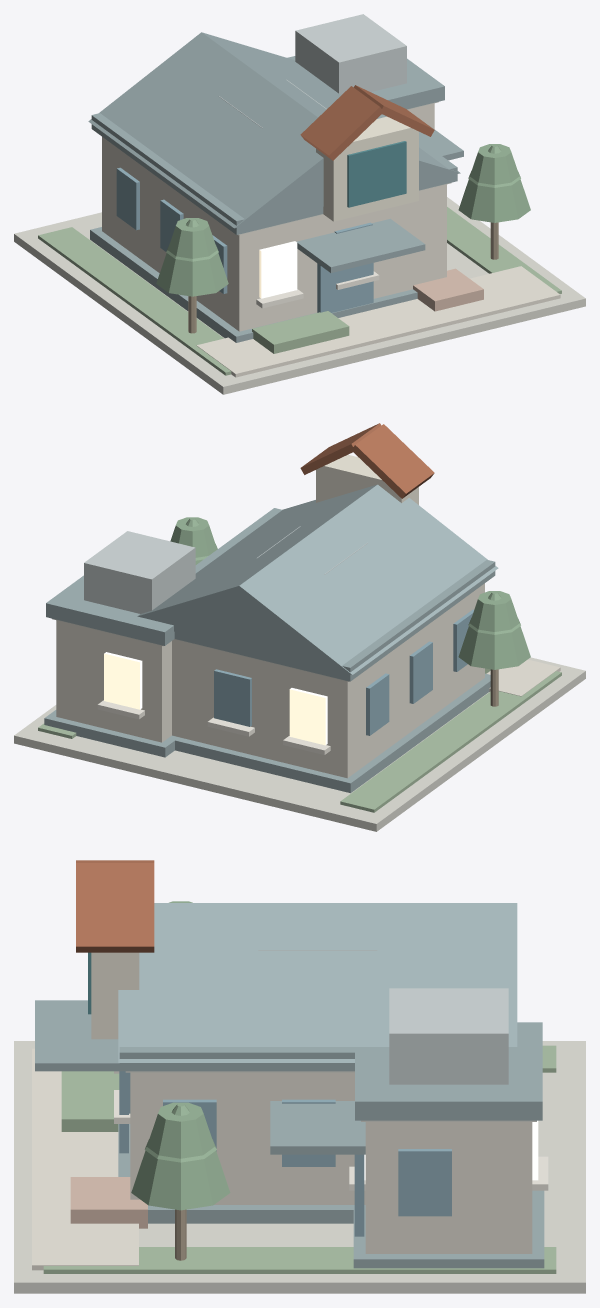
File: remaster_house_18.glb
The picture shows the model from 3 angles, top to bottom: view 1: azimuth 30°, elevation 25°; view 2: azimuth 150°, elevation 25°; view 3: azimuth 270°, elevation 25°; orthographic projection. The views are drawn at different scales.
Parts seen in each view (by area): view 1: remaster_house_18 roof, remaster_house_18 cream, remaster_house_18 stone, remaster_house_18 green, remaster_house_18 leaf, remaster_house_18 metal, remaster_house_18 glass, Dormer face.003, Dormer glazing.003, Dormer roof.006, remaster_house_18 warm, remaster_house_18 brick (+3 smaller); view 2: remaster_house_18 roof, remaster_house_18 cream, remaster_house_18 stone, remaster_house_18 metal, remaster_house_18 green, remaster_house_18 leaf, remaster_house_18 glass, remaster_house_18 warm, Dormer roof.006, Dormer face.003, remaster_house_18 white, Dormer roof.007; view 3: remaster_house_18 roof, remaster_house_18 cream, remaster_house_18 stone, remaster_house_18 metal, remaster_house_18 green, remaster_house_18 leaf, Dormer roof.007, remaster_house_18 glass, remaster_house_18 brick, Dormer face.003, remaster_house_18 white, remaster_house_18 bark.
Part boxes in pixels (x1,y1,x2,y2): remaster_house_18 roof: [88, 32, 463, 342]; remaster_house_18 cream: [102, 103, 560, 377]; remaster_house_18 stone: [14, 101, 585, 394]; remaster_house_18 green: [38, 207, 561, 375]; remaster_house_18 leaf: [156, 144, 530, 296]; remaster_house_18 metal: [219, 14, 406, 128]; remaster_house_18 glass: [116, 167, 373, 312]; Dormer face.003: [316, 116, 418, 221]; Dormer glazing.003: [347, 141, 406, 207]; Dormer roof.006: [300, 86, 383, 160]; remaster_house_18 warm: [259, 241, 297, 298]; remaster_house_18 brick: [413, 268, 483, 311]; remaster_house_18 roof: [44, 484, 498, 793]; remaster_house_18 cream: [56, 583, 560, 778]; remaster_house_18 stone: [14, 618, 585, 831]; remaster_house_18 metal: [84, 526, 367, 613]; remaster_house_18 green: [38, 668, 561, 812]; remaster_house_18 leaf: [170, 517, 530, 669]; remaster_house_18 glass: [214, 609, 473, 735]; remaster_house_18 warm: [104, 652, 327, 745]; Dormer roof.006: [351, 424, 434, 498]; Dormer face.003: [316, 454, 418, 504]; remaster_house_18 white: [97, 700, 330, 754]; Dormer roof.007: [300, 423, 381, 474]; remaster_house_18 roof: [35, 903, 544, 1268]; remaster_house_18 cream: [32, 1048, 532, 1270]; remaster_house_18 stone: [14, 1041, 585, 1293]; remaster_house_18 metal: [258, 950, 508, 1084]; remaster_house_18 green: [43, 1045, 556, 1273]; remaster_house_18 leaf: [131, 901, 230, 1210]; Dormer roof.007: [76, 863, 154, 952]; remaster_house_18 glass: [119, 1071, 451, 1236]; remaster_house_18 brick: [70, 1177, 147, 1228]; Dormer face.003: [91, 952, 139, 1039]; remaster_house_18 white: [114, 1071, 548, 1190]; remaster_house_18 bark: [175, 1209, 186, 1260].
Bounding box in the file's own units: 9.64 × 5.76 × 9.6.
